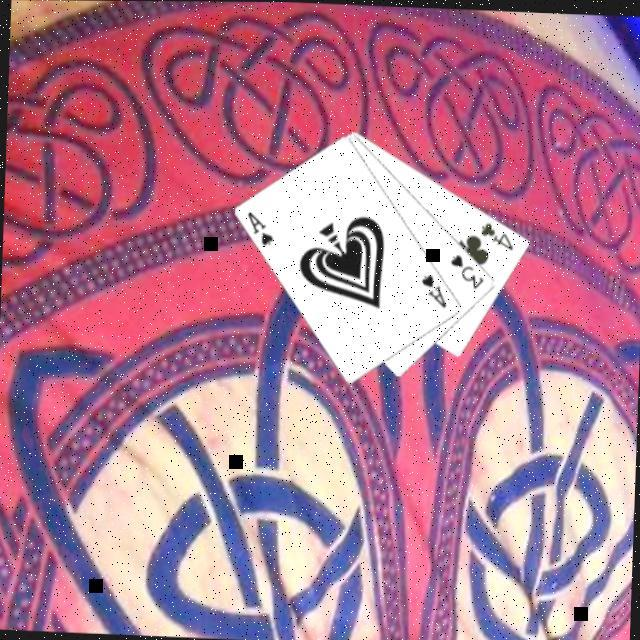3S: (448, 248, 490, 288)
4C: (478, 217, 518, 250)
AS: (245, 206, 280, 247), (420, 268, 452, 308)
